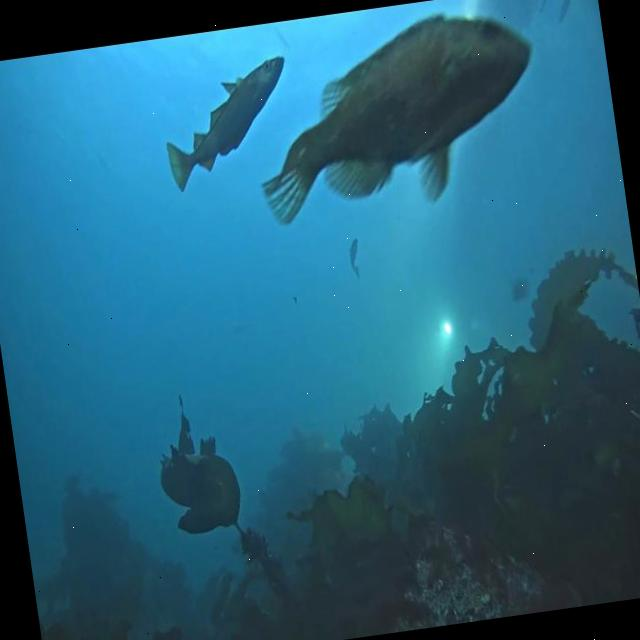fish: (241, 0, 551, 230), (156, 54, 302, 196), (346, 236, 364, 280), (552, 0, 581, 24), (537, 0, 554, 15)
